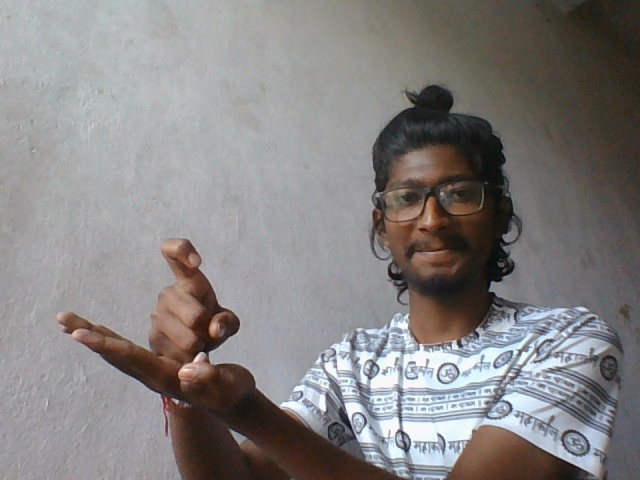No: (50, 233, 268, 417)
